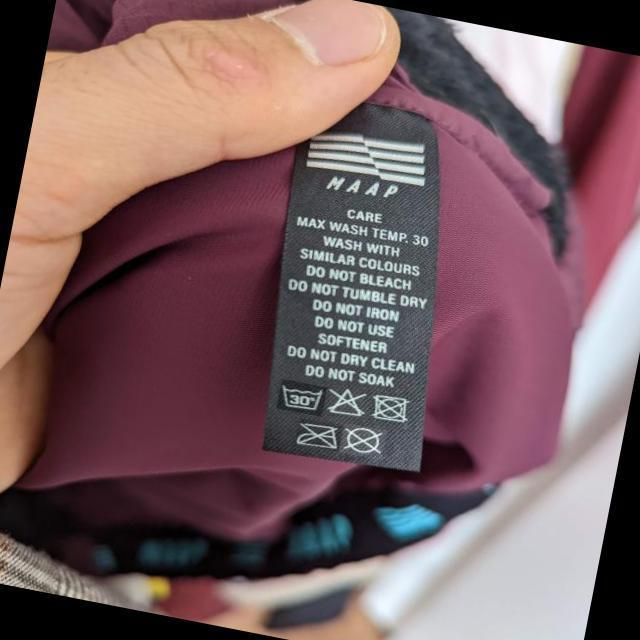30C: (280, 382, 324, 413)
DN_bleach: (330, 387, 370, 419)
DN_dry_clean: (344, 423, 386, 455)
DN_iron: (295, 419, 339, 450)
DN_tumble_dry: (373, 394, 412, 425)
